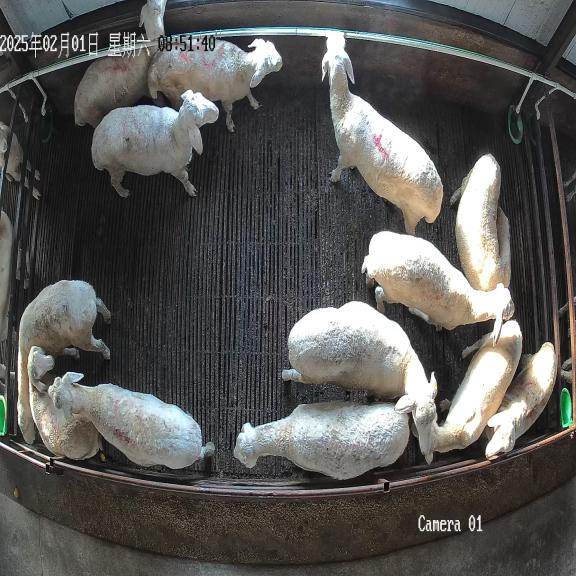stand: (282, 301, 437, 463), (321, 31, 443, 234), (361, 231, 514, 344), (48, 372, 214, 469), (17, 280, 110, 443), (234, 400, 410, 480), (425, 319, 522, 463), (92, 90, 218, 197), (148, 37, 282, 132), (74, 0, 167, 127), (27, 346, 102, 460), (450, 153, 511, 290), (486, 342, 557, 458)
